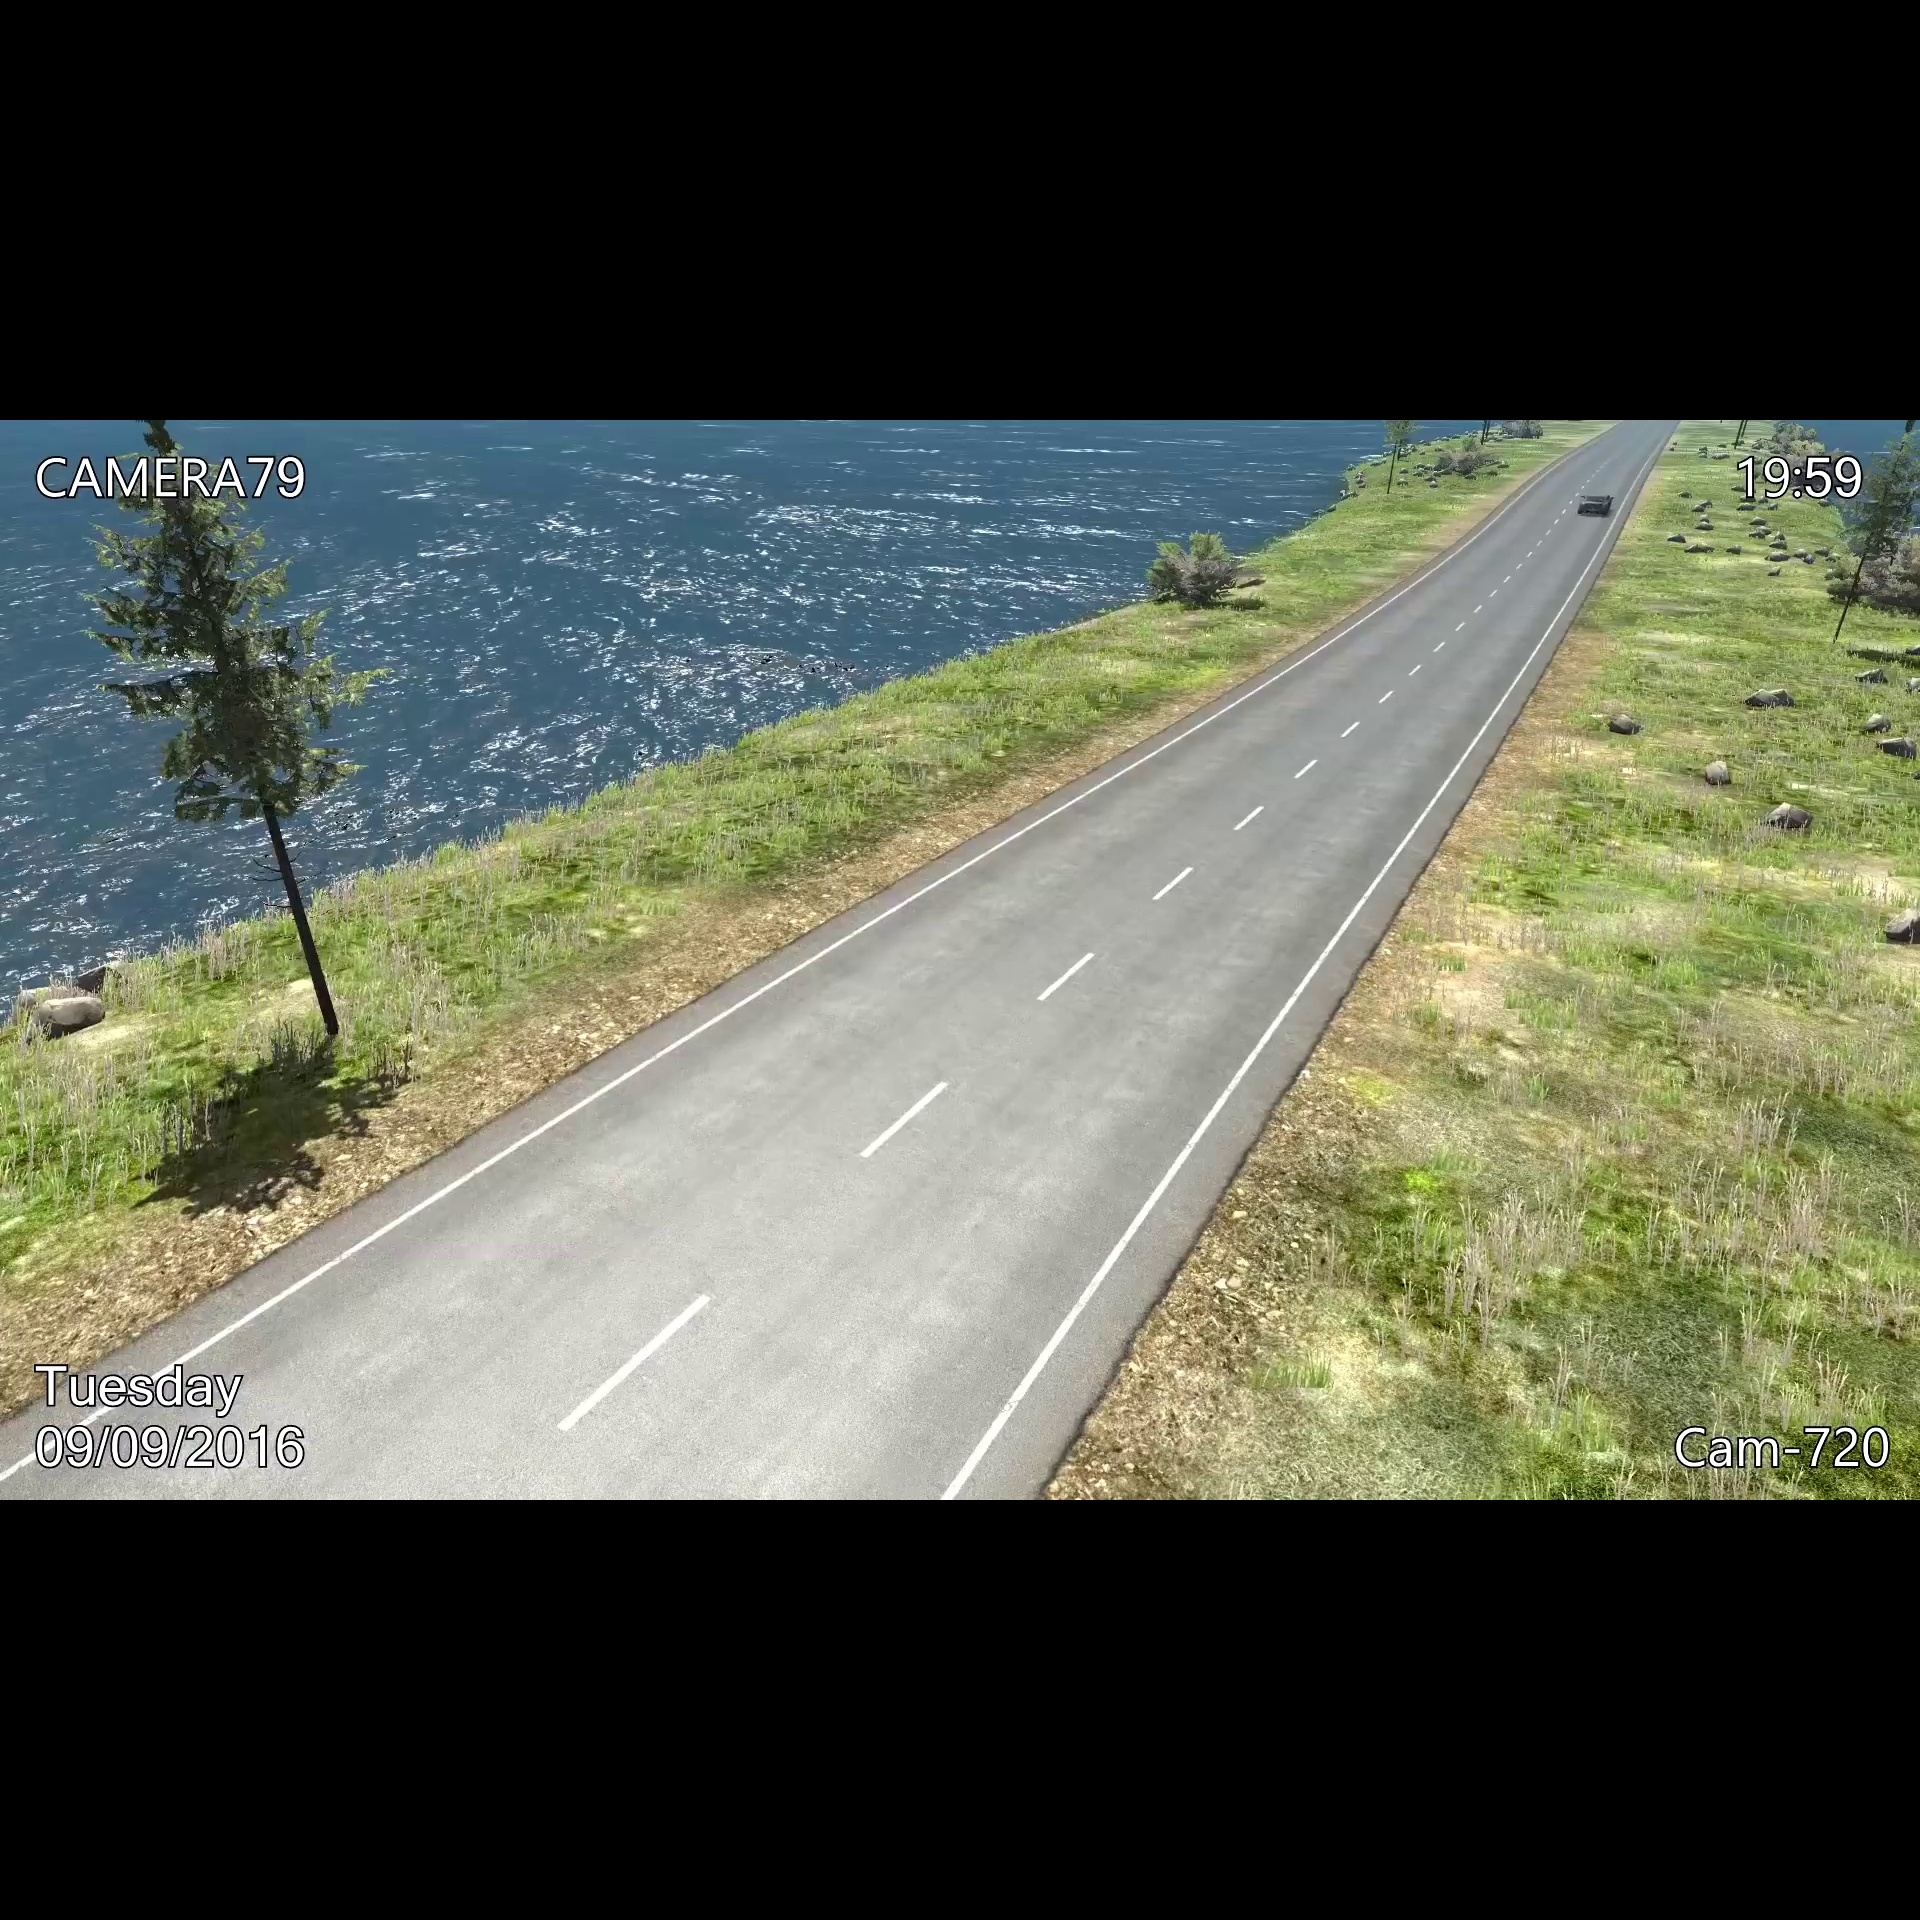vehicle: (1575, 489, 1618, 522)
